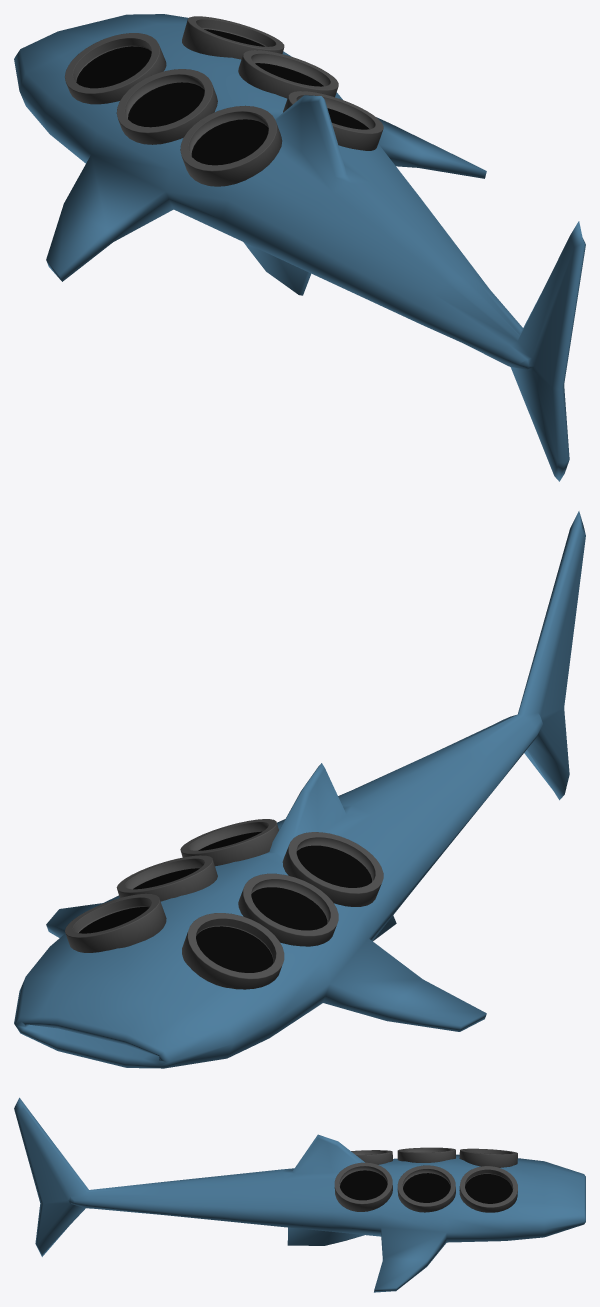
File: WhaleShark.fbx
3 renders of one model, top to bottom at view 1: azimuth 30°, elevation 25°; view 2: azimuth 150°, elevation 25°; view 3: azimuth 270°, elevation 25°, orthographic. The views are drawn at different scales.
Visible parts, largest first — view 1: WhaleShark; view 2: WhaleShark; view 3: WhaleShark.
Boxes of the visible parts, x1=… form: WhaleShark: x1=14, y1=14, x2=585, y2=481; WhaleShark: x1=14, y1=511, x2=585, y2=1068; WhaleShark: x1=14, y1=1097, x2=585, y2=1292.
Bounding box in the file's own units: 13870 × 8546 × 27701.
